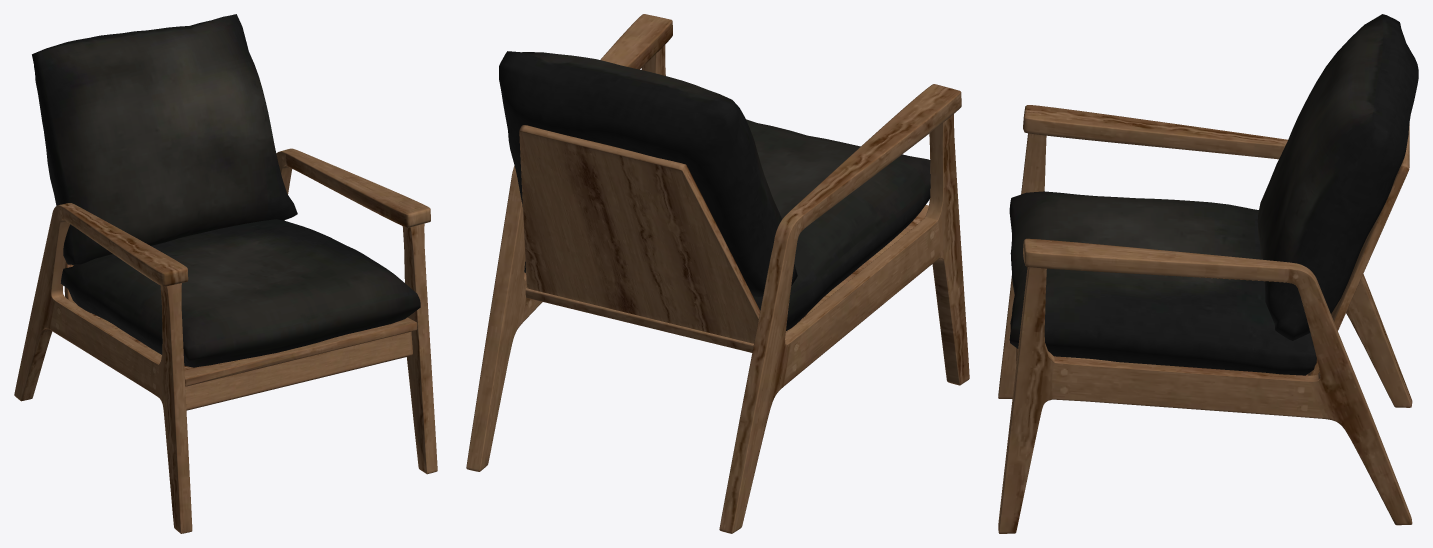
File: modern_arm_chair_01.glb
3 views of the same model, side by side, from view 1: azimuth 30°, elevation 25°; view 2: azimuth 150°, elevation 25°; view 3: azimuth 270°, elevation 25° (orthographic). The views are drawn at different scales.
Visible parts, largest first — view 1: modern_arm_chair_01; view 2: modern_arm_chair_01; view 3: modern_arm_chair_01.
Boxes of the visible parts, x1,y1,x2,y2 form: modern_arm_chair_01: (14,14,437,533); modern_arm_chair_01: (466,14,969,533); modern_arm_chair_01: (998,14,1418,533).
Size of the model in its own units: 0.8203 by 1.02 by 0.9865.
Materials: 2 (2 with a texture image).
